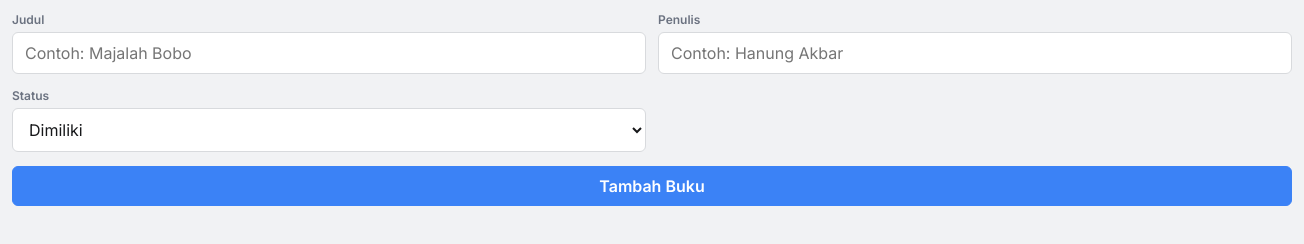
menampilkan pesan error saat judul & penulis kosong
Click the button "Tambah Buku". click: (652, 186)
box: [12,166,1292,206]
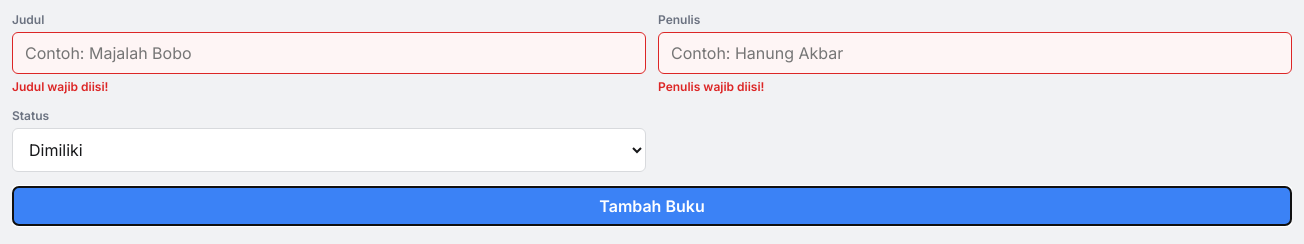
Result: the number of messages is 2 at [12,79,108,94]; [658,79,764,94]
Result: the text "Judul wajib diisi!" is shown at [12,79,108,94]
Result: the text "Penulis wajib diisi!" is shown at [658,79,764,94]
